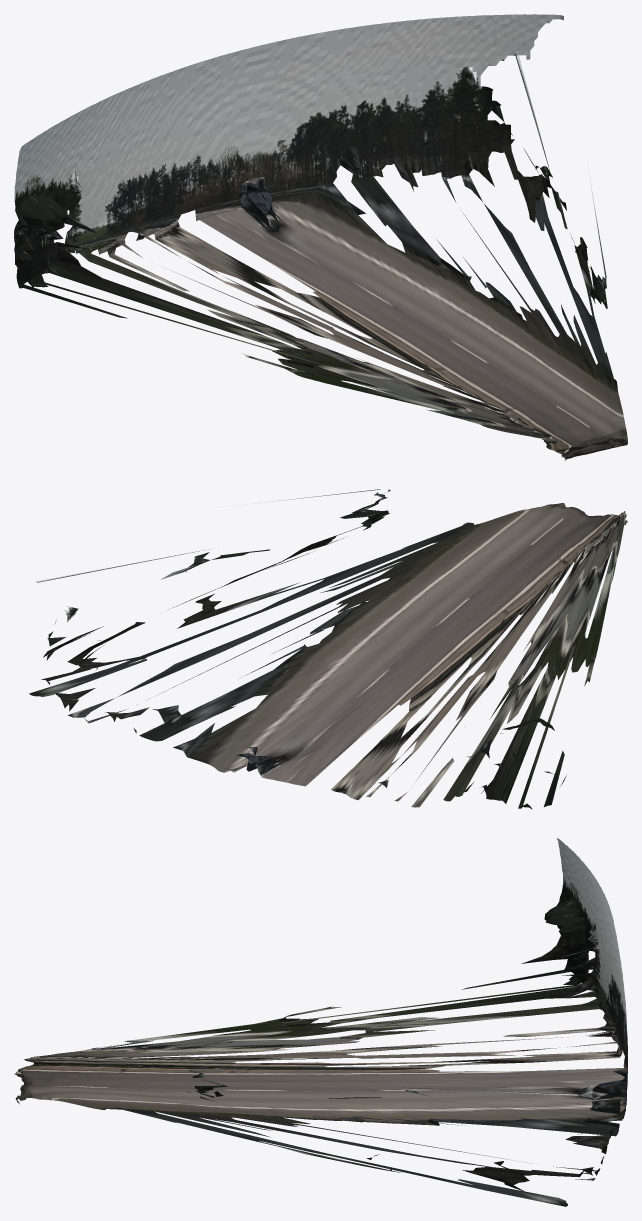
3 renders of one model, top to bottom at view 1: azimuth 30°, elevation 25°; view 2: azimuth 150°, elevation 25°; view 3: azimuth 270°, elevation 25°, orthographic. The views are drawn at different scales.
Parts seen in each view (by area): view 1: defaultobject; view 2: defaultobject; view 3: defaultobject.
Boxes of the visible parts, bbox=[...] form: defaultobject: bbox=[14, 14, 627, 460]; defaultobject: bbox=[29, 489, 627, 809]; defaultobject: bbox=[14, 838, 627, 1206].
Size of the model in its own units: 40.72 by 12.27 by 44.59.
1 material, 1 textured.
